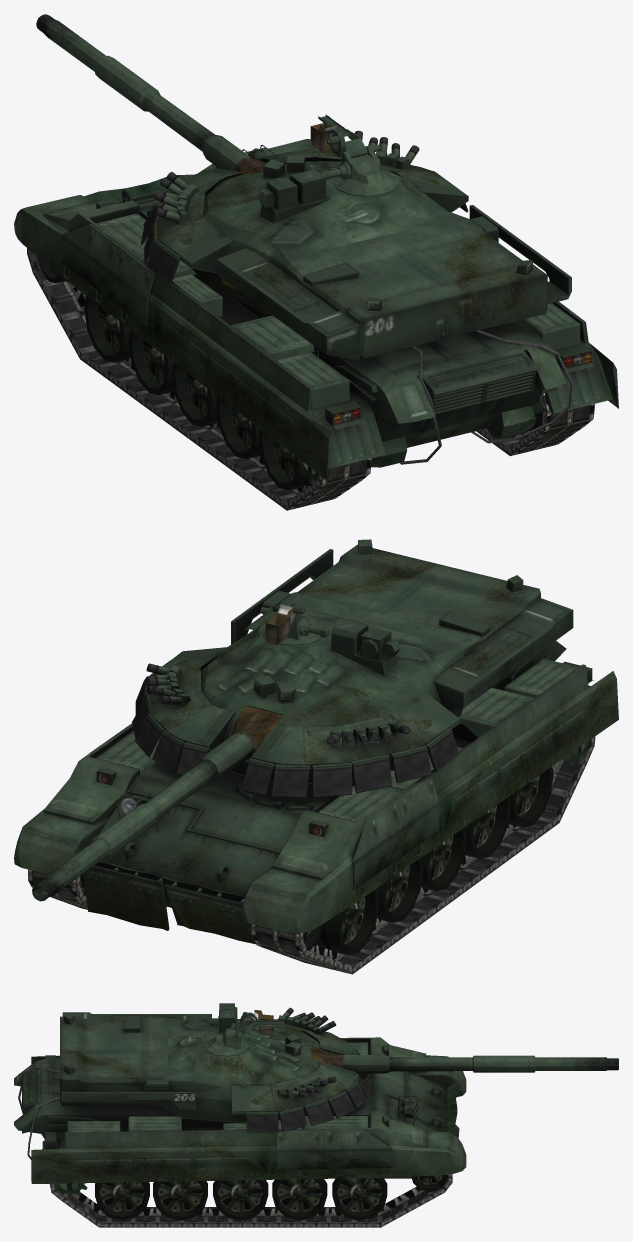
The model's file is t55agm.glb.
3 views of the same model, one above another, from view 1: azimuth 30°, elevation 25°; view 2: azimuth 150°, elevation 25°; view 3: azimuth 270°, elevation 25° (orthographic). The views are drawn at different scales.
Visible parts, largest first — view 1: ukrtnk_t55_0, ukrtnk_t55.001_1; view 2: ukrtnk_t55_0, ukrtnk_t55.001_1; view 3: ukrtnk_t55_0, ukrtnk_t55.001_1.
Boxes of the visible parts, left/top/right/bottom form: ukrtnk_t55_0: left=14, top=139, right=618, bottom=510; ukrtnk_t55.001_1: left=36, top=14, right=571, bottom=359; ukrtnk_t55_0: left=14, top=641, right=618, bottom=974; ukrtnk_t55.001_1: left=32, top=539, right=573, bottom=901; ukrtnk_t55_0: left=14, top=1037, right=466, bottom=1227; ukrtnk_t55.001_1: left=60, top=1003, right=618, bottom=1132.
Size of the model in its own units: 23.26 by 19.28 by 59.3.
Materials: 2 (2 with a texture image).
